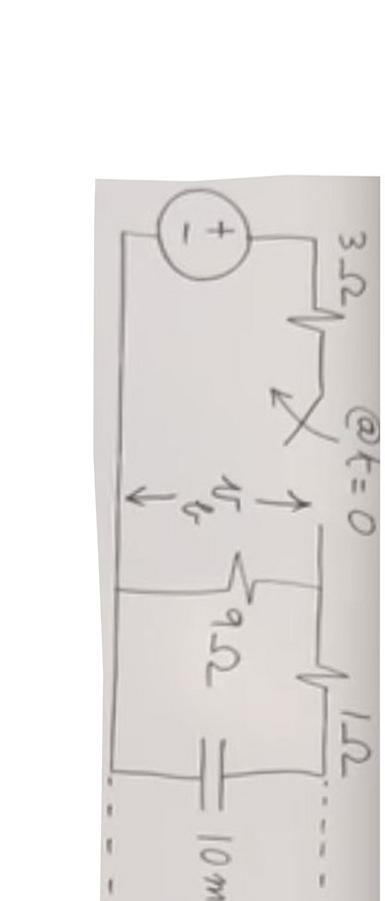Battery: (133, 171, 274, 302)
